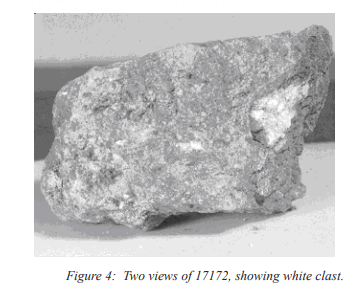Breccia: (36, 15, 331, 250), (85, 78, 319, 218), (228, 47, 330, 173)
